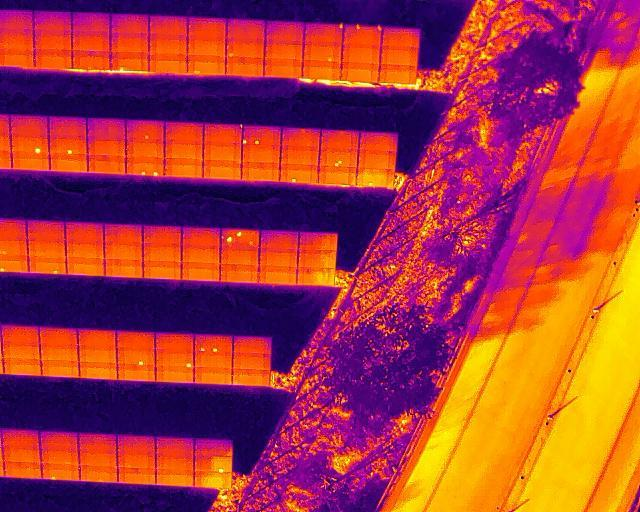Cell: (304, 24, 343, 45), (126, 120, 164, 141), (187, 55, 226, 75), (110, 51, 149, 70), (303, 43, 341, 62), (28, 256, 66, 274), (49, 136, 87, 154), (41, 464, 79, 482), (226, 40, 264, 58), (280, 164, 317, 182), (117, 349, 155, 366), (356, 168, 393, 185), (12, 137, 49, 154), (156, 351, 194, 367), (194, 456, 231, 472)
Cell-Multi: (220, 228, 260, 248), (343, 25, 383, 45), (243, 125, 281, 146), (194, 333, 233, 353), (126, 156, 164, 176), (320, 148, 357, 167)
No-Anomaly: (87, 117, 126, 140), (10, 115, 48, 138), (110, 31, 149, 53), (226, 19, 265, 41), (49, 116, 87, 138), (72, 29, 110, 51), (266, 20, 304, 42), (188, 17, 226, 39), (150, 15, 188, 37), (110, 13, 149, 34), (204, 123, 242, 144), (165, 121, 203, 142), (155, 333, 194, 353), (260, 229, 299, 249), (104, 223, 143, 243), (65, 222, 104, 242), (203, 160, 242, 180), (149, 34, 188, 54), (39, 431, 78, 451), (155, 437, 196, 456), (321, 129, 358, 150), (34, 29, 71, 50), (165, 158, 203, 178), (280, 145, 318, 165), (165, 140, 203, 160), (359, 131, 397, 151), (282, 128, 320, 148), (72, 11, 110, 31), (34, 10, 72, 30), (258, 265, 297, 284), (220, 264, 259, 283), (181, 262, 220, 281), (142, 261, 181, 280), (299, 232, 338, 251), (181, 226, 220, 245), (203, 142, 242, 161), (0, 10, 35, 31), (40, 343, 78, 362), (2, 341, 40, 360), (117, 331, 155, 350), (105, 259, 143, 278), (66, 257, 104, 276), (182, 244, 220, 263), (143, 225, 181, 244), (27, 221, 65, 240), (242, 162, 280, 181), (88, 155, 126, 174), (226, 57, 264, 76), (72, 50, 110, 69), (341, 44, 379, 63), (188, 37, 226, 56), (1, 430, 39, 449), (359, 149, 395, 169), (265, 58, 302, 77), (195, 439, 232, 458), (232, 337, 271, 355), (298, 250, 337, 268), (259, 249, 298, 267), (220, 247, 259, 265), (27, 239, 66, 257), (87, 138, 126, 156), (79, 362, 118, 380), (148, 54, 187, 72), (382, 45, 417, 65), (78, 329, 116, 347), (39, 327, 77, 345), (0, 324, 38, 342), (296, 267, 334, 285), (143, 244, 181, 262), (105, 242, 143, 260), (66, 240, 104, 258), (242, 145, 280, 163), (126, 140, 164, 158), (194, 366, 232, 384), (41, 359, 79, 377), (3, 358, 41, 376), (117, 435, 155, 453), (78, 433, 116, 451), (155, 455, 195, 472), (50, 154, 87, 172), (13, 153, 50, 171), (4, 461, 41, 479), (340, 62, 377, 80), (35, 49, 72, 67), (265, 42, 302, 60), (382, 28, 419, 46), (78, 346, 117, 363), (118, 468, 157, 485), (379, 64, 415, 82), (0, 30, 34, 49), (79, 450, 117, 467), (319, 167, 356, 184), (118, 365, 155, 382), (40, 450, 79, 466), (0, 48, 34, 66), (193, 472, 231, 488), (156, 471, 194, 487), (232, 369, 270, 385), (156, 367, 194, 383), (233, 353, 271, 369), (118, 453, 156, 469), (303, 62, 340, 78), (193, 353, 232, 368), (3, 448, 41, 463), (80, 465, 117, 480)
